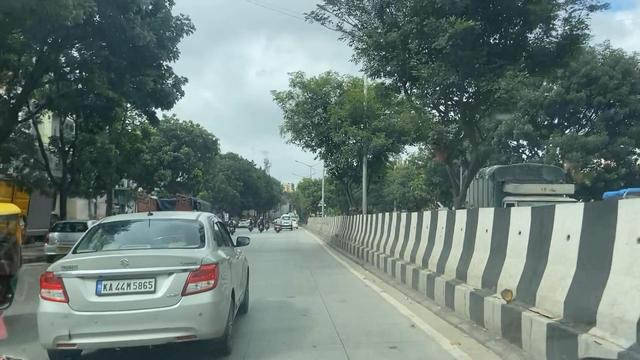LMV: (45, 218, 252, 360)
